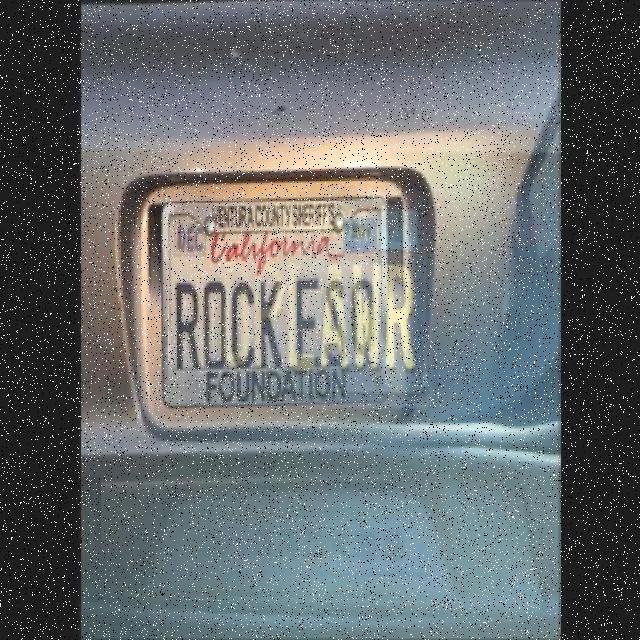licenseplate: (161, 203, 393, 400)
